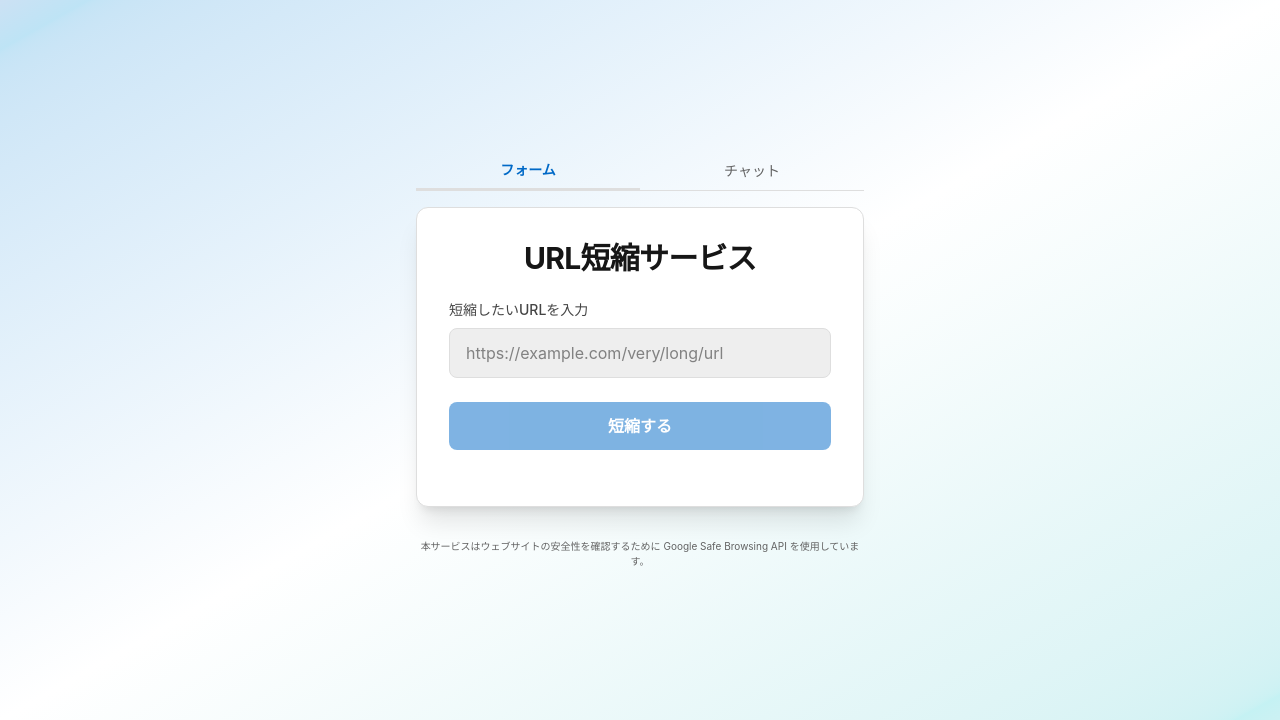
Test case: Home Page › Tab switching › switches to the chat tab and shows the chat panel
The image size is (1280, 720).
Click the tab "チャット": x=752, y=170 top-left (640, 152), bottom-right (864, 190)
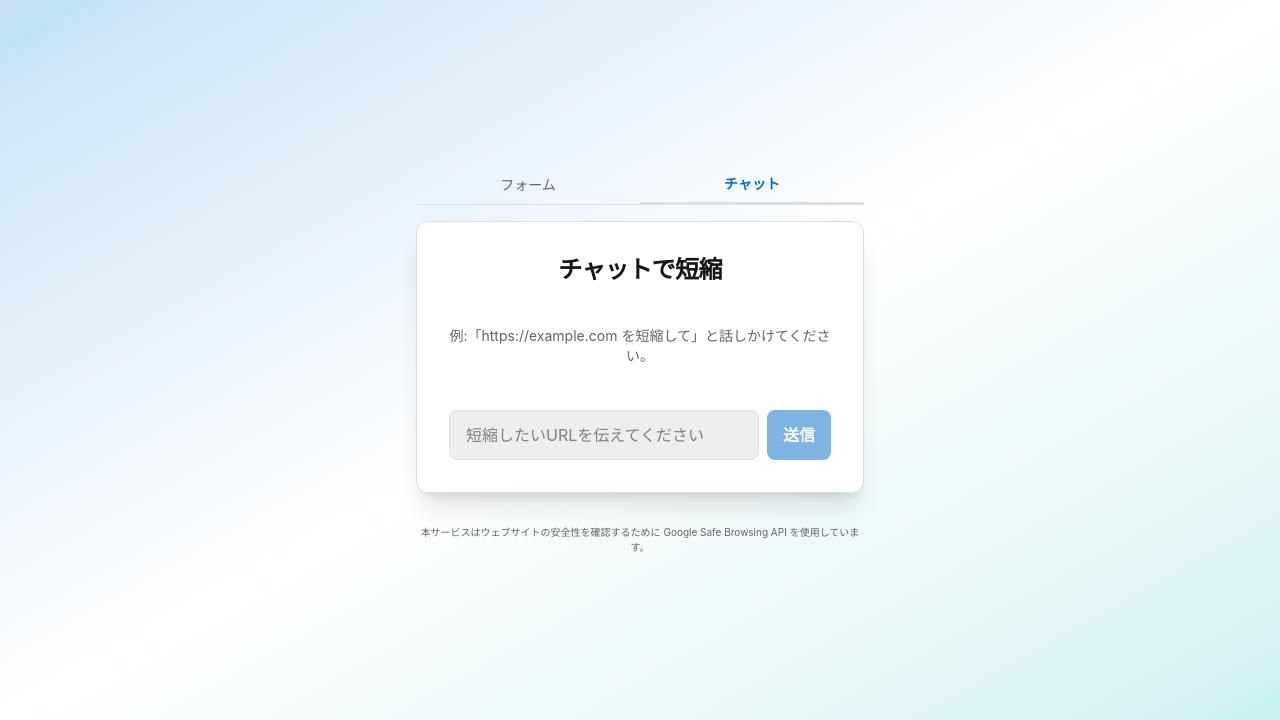
Check: the heading "チャットで短縮" is shown, box top-left (558, 254), bottom-right (722, 284)
Check: the text "例:「https://example.com を短縮して」と話しかけてください。" is shown, box top-left (450, 326), bottom-right (831, 364)
